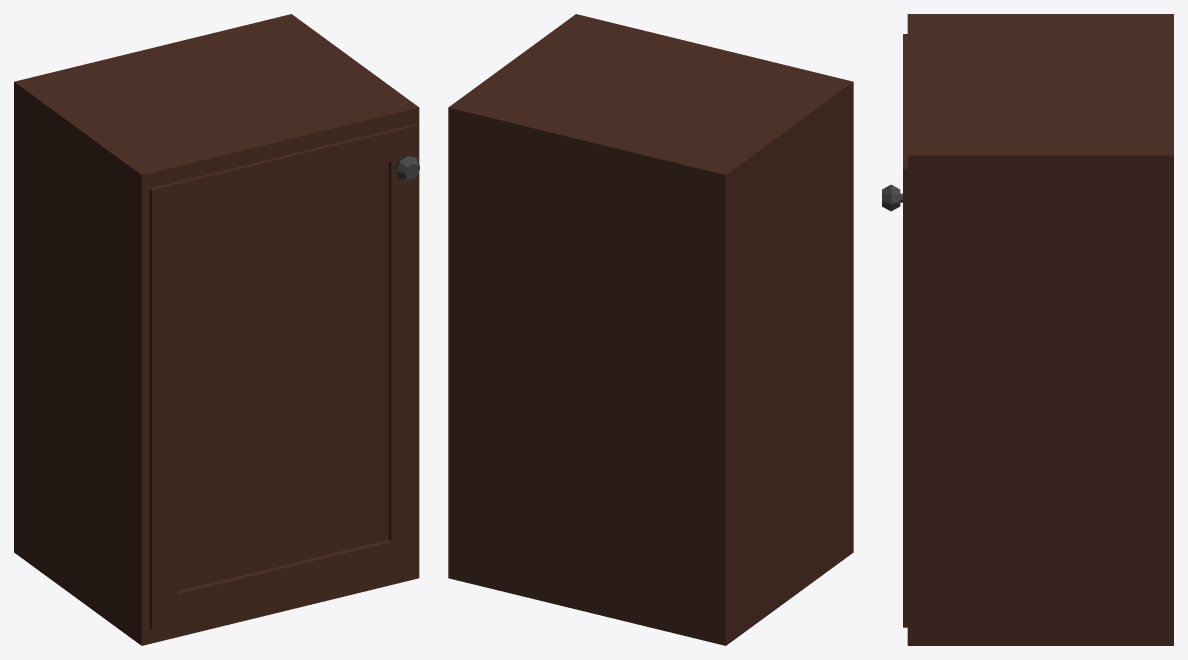
File: SingleDoorUpperCabinet1.glb
The picture shows the model from 3 angles, left to right: view 1: azimuth 30°, elevation 25°; view 2: azimuth 150°, elevation 25°; view 3: azimuth 270°, elevation 25°; orthographic projection. The views are drawn at different scales.
Parts seen in each view (by area): view 1: Door1SingleDoorUpperCabinet1, SingleDoorUpperCabinet1; view 2: SingleDoorUpperCabinet1; view 3: SingleDoorUpperCabinet1, Door1SingleDoorUpperCabinet1.
Part boxes in pixels (box(x1,y1,x2,y2)): Door1SingleDoorUpperCabinet1: box(149, 124, 419, 630); SingleDoorUpperCabinet1: box(14, 14, 419, 645); SingleDoorUpperCabinet1: box(448, 14, 853, 645); SingleDoorUpperCabinet1: box(907, 14, 1173, 645); Door1SingleDoorUpperCabinet1: box(882, 34, 907, 627).
Bounding box in the file's own units: 0.4834 × 0.7835 × 0.4222.
